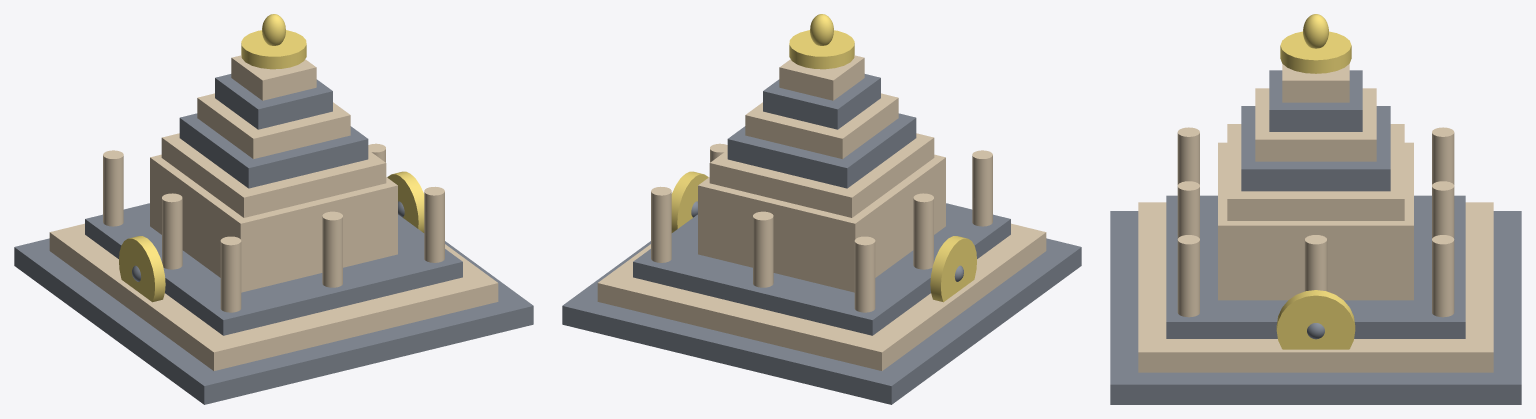
The model's file is Grand_Solstice_Sun_Temple.glb.
3 renders of one model, left to right at view 1: azimuth 30°, elevation 25°; view 2: azimuth 150°, elevation 25°; view 3: azimuth 270°, elevation 25°, orthographic. The views are drawn at different scales.
Parts seen in each view (by area): view 1: JagatiTier1, JagatiTier2, SanctumWalls, JagatiTier3, SpireTier_0, SpireTier_1, SpireTier_2, SpireTier_3, SpireTier_4, ChariotWheel_-1, AmalakaDisc, Pillar_-1_1 (+6 smaller); view 2: JagatiTier1, JagatiTier2, SanctumWalls, JagatiTier3, SpireTier_0, SpireTier_1, SpireTier_2, SpireTier_3, SpireTier_4, ChariotWheel_-1, AmalakaDisc, Pillar_-1_-1 (+6 smaller); view 3: JagatiTier1, JagatiTier2, SanctumWalls, JagatiTier3, SpireTier_0, SpireTier_1, SpireTier_2, ChariotWheel_1, SpireTier_3, AmalakaDisc, SpireTier_4, Pillar_1_-1 (+7 smaller).
Part boxes in pixels (<box>): JagatiTier1: <box>14,238,533,404</box>; JagatiTier2: <box>49,223,498,370</box>; SanctumWalls: <box>150,154,397,292</box>; JagatiTier3: <box>85,203,462,335</box>; SpireTier_0: <box>161,133,386,217</box>; SpireTier_1: <box>179,113,368,188</box>; SpireTier_2: <box>197,93,350,158</box>; SpireTier_3: <box>215,74,332,129</box>; SpireTier_4: <box>231,55,316,100</box>; ChariotWheel_-1: <box>119,236,165,302</box>; AmalakaDisc: <box>241,30,306,69</box>; Pillar_-1_1: <box>220,236,241,312</box>; JagatiTier1: <box>562,238,1081,404</box>; JagatiTier2: <box>597,223,1046,370</box>; SanctumWalls: <box>698,154,945,292</box>; JagatiTier3: <box>633,203,1010,335</box>; SpireTier_0: <box>709,133,934,217</box>; SpireTier_1: <box>727,113,916,188</box>; SpireTier_2: <box>745,93,898,158</box>; SpireTier_3: <box>763,74,880,129</box>; SpireTier_4: <box>779,55,864,100</box>; ChariotWheel_-1: <box>930,236,976,302</box>; AmalakaDisc: <box>789,30,854,69</box>; Pillar_-1_-1: <box>854,236,875,312</box>; JagatiTier1: <box>1110,211,1521,404</box>; JagatiTier2: <box>1138,202,1493,372</box>; SanctumWalls: <box>1218,142,1413,300</box>; JagatiTier3: <box>1166,195,1465,338</box>; SpireTier_0: <box>1227,124,1404,220</box>; SpireTier_1: <box>1241,106,1390,191</box>; SpireTier_2: <box>1255,88,1376,161</box>; ChariotWheel_1: <box>1276,290,1355,349</box>; SpireTier_3: <box>1269,70,1362,131</box>; AmalakaDisc: <box>1280,31,1351,73</box>; SpireTier_4: <box>1282,64,1349,102</box>; Pillar_1_-1: <box>1432,235,1454,317</box>.
Bounding box in the file's own units: 0.22 × 0.179 × 0.22.
